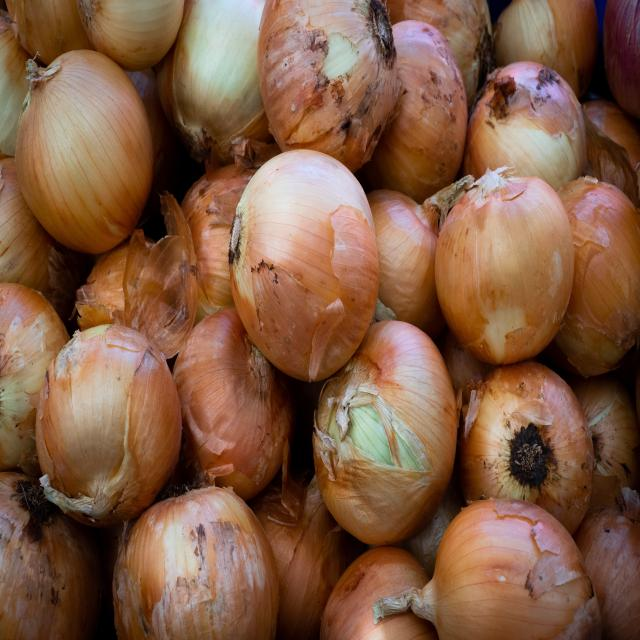onion: (228, 150, 380, 380), (313, 321, 458, 546), (34, 322, 183, 522), (16, 47, 152, 254), (436, 176, 575, 363), (114, 483, 279, 640), (431, 499, 598, 640), (173, 309, 291, 502), (461, 363, 593, 534), (258, 0, 398, 154), (554, 177, 640, 377), (0, 470, 100, 640), (376, 19, 468, 194), (468, 60, 588, 182), (252, 481, 342, 640), (0, 282, 70, 469), (320, 547, 436, 640), (364, 184, 437, 323), (77, 0, 187, 67)
